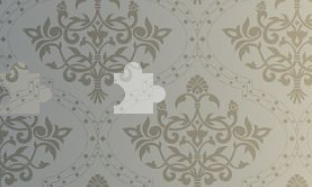target: (110, 59, 171, 116)
